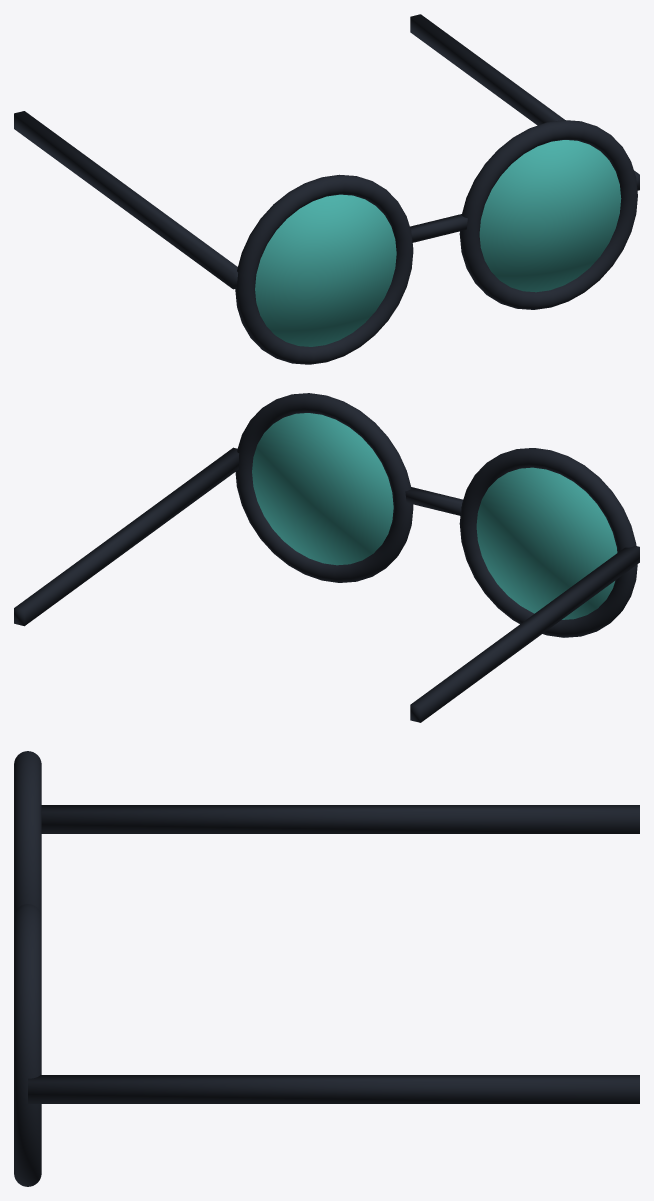
The model's file is round_glasses.obj.
The picture shows the model from 3 angles, top to bottom: view 1: azimuth 30°, elevation 25°; view 2: azimuth 150°, elevation 25°; view 3: azimuth 270°, elevation 25°; orthographic projection. The views are drawn at different scales.
Parts seen in each view (by area): view 1: lens_tint, frame_matte; view 2: frame_matte, lens_tint; view 3: frame_matte.
Boxes of the visible parts, x1=… form: lens_tint: x1=255, y1=140, x2=621, y2=346; frame_matte: x1=14, y1=14, x2=639, y2=364; frame_matte: x1=14, y1=393, x2=639, y2=722; lens_tint: x1=252, y1=413, x2=617, y2=619; frame_matte: x1=14, y1=751, x2=639, y2=1186.
Size of the model in its own units: 0.1232 by 0.0532 by 0.1176.
